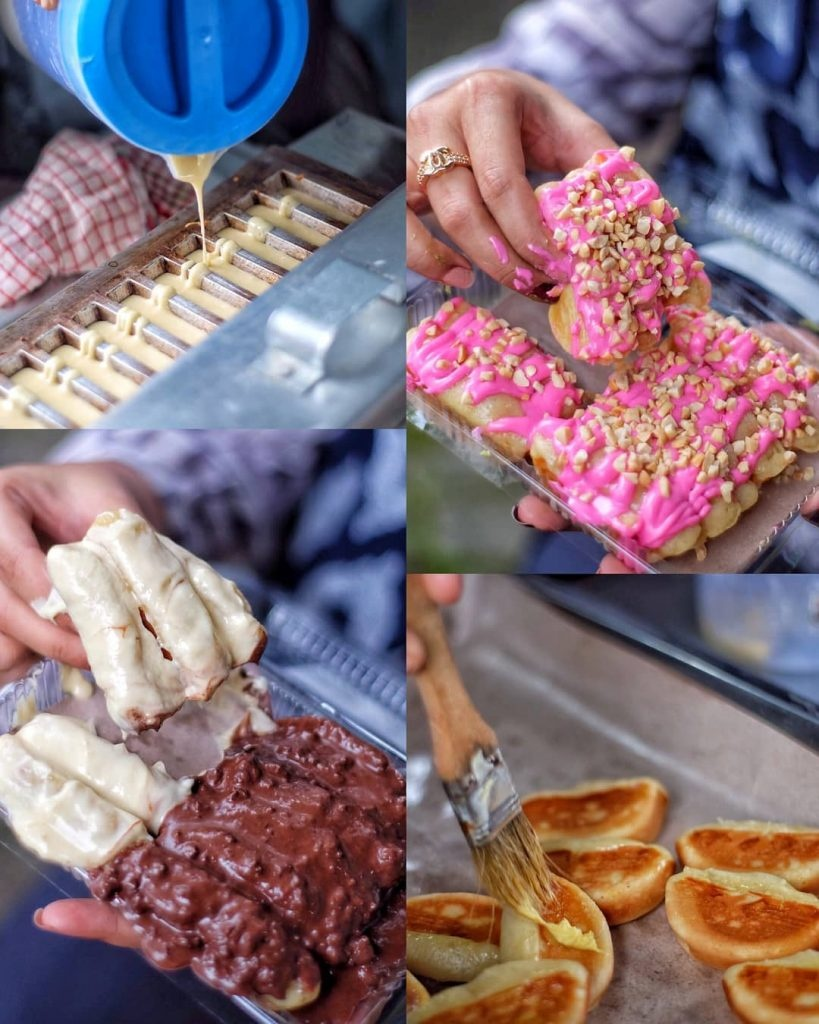pukis: (653, 865, 819, 974)
